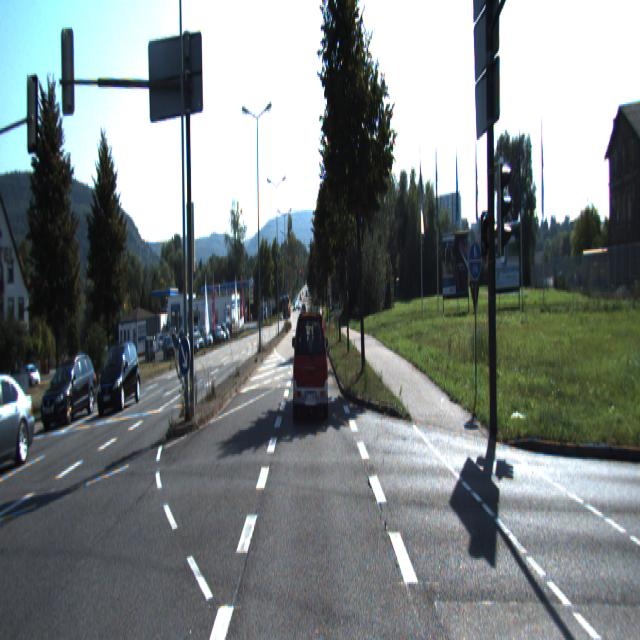Car: (40, 354, 98, 425), (293, 306, 328, 416), (95, 342, 141, 419), (0, 374, 33, 480)
DontCare: (142, 302, 238, 365)
